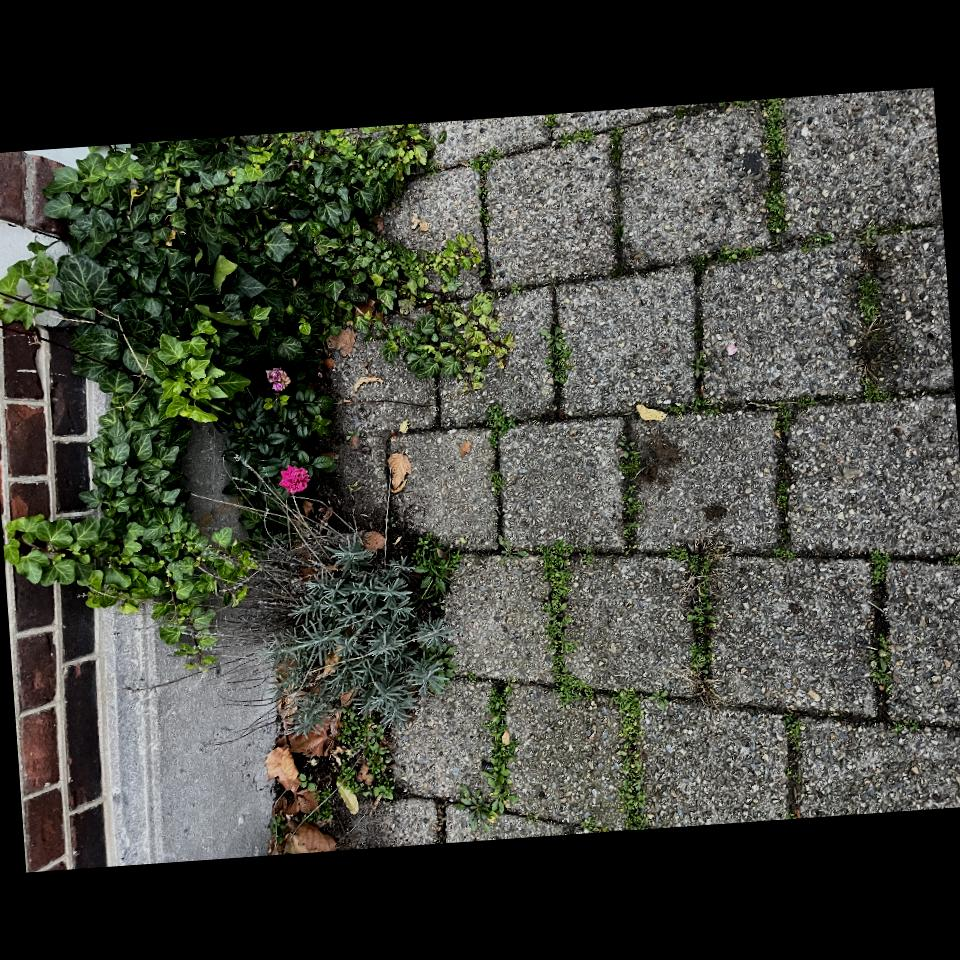weed: (143, 667, 308, 722), (49, 461, 142, 522), (215, 795, 307, 852), (18, 741, 159, 777), (36, 611, 164, 646), (614, 889, 751, 916), (249, 541, 312, 590), (438, 667, 522, 701), (573, 819, 603, 892), (679, 687, 718, 741), (415, 903, 451, 944), (300, 747, 358, 769), (401, 615, 444, 644), (368, 746, 414, 770), (286, 626, 313, 656), (595, 927, 614, 953), (354, 619, 374, 632)
